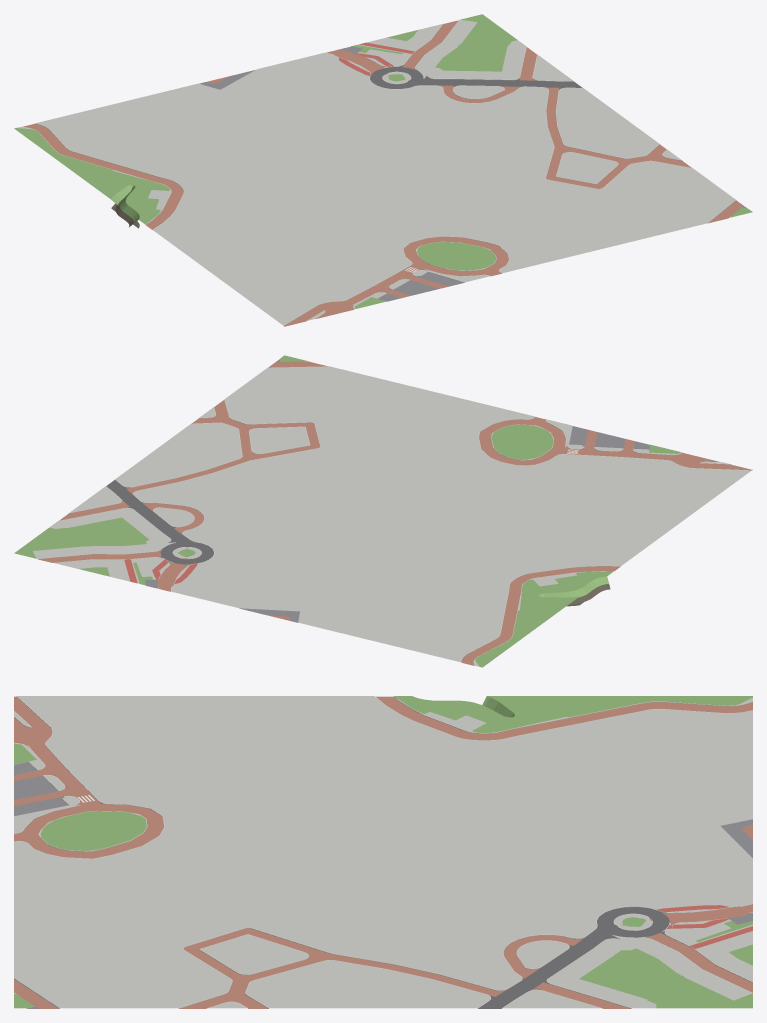
File: ground_5_11.glb
3 renders of one model, top to bottom at view 1: azimuth 30°, elevation 25°; view 2: azimuth 150°, elevation 25°; view 3: azimuth 270°, elevation 25°, orthographic. The views are drawn at different scales.
Visible parts, largest first — view 1: ground_5_11; view 2: ground_5_11; view 3: ground_5_11.
Boxes of the visible parts, x1,y1,x2,y2 form: ground_5_11: (14,14,752,326); ground_5_11: (14,355,752,667); ground_5_11: (14,696,752,1008).
Bounding box in the file's own units: 203 × 3.62 × 200.
